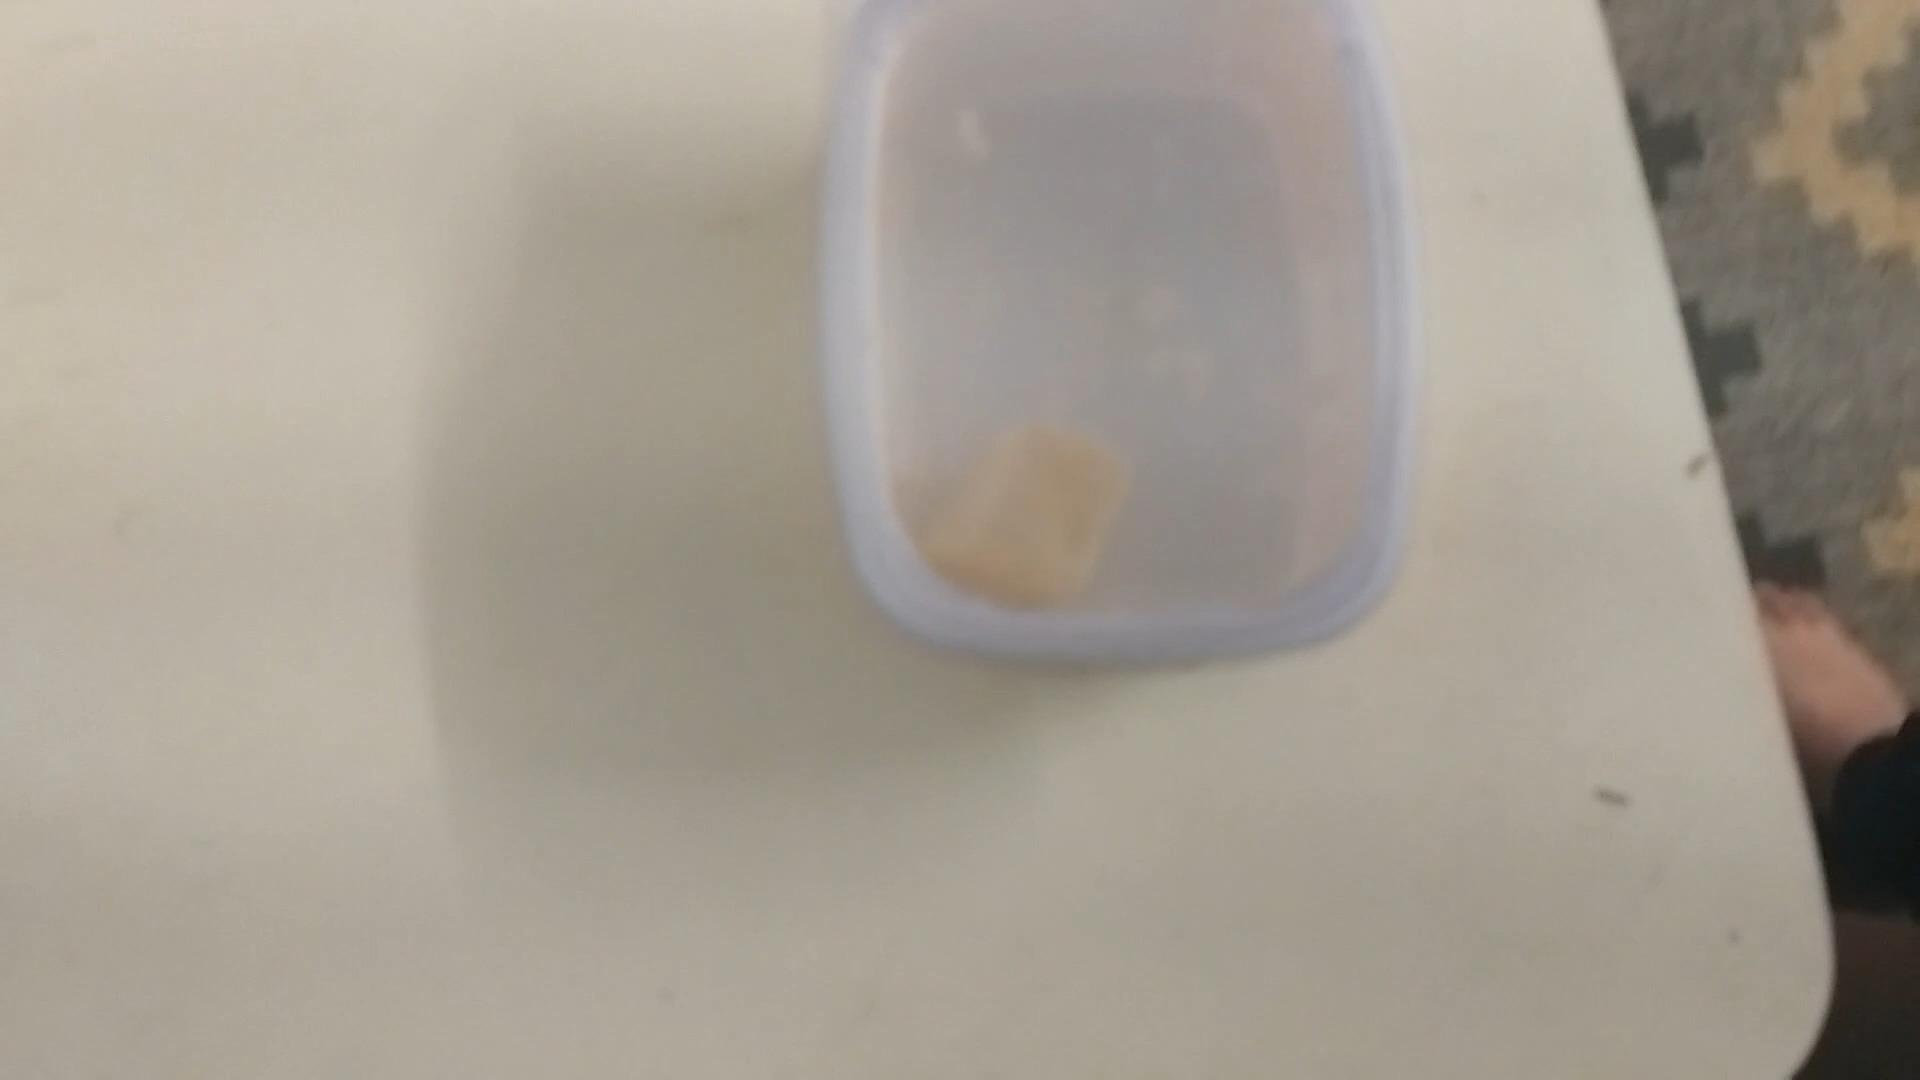butter: (827, 0, 1404, 666)
